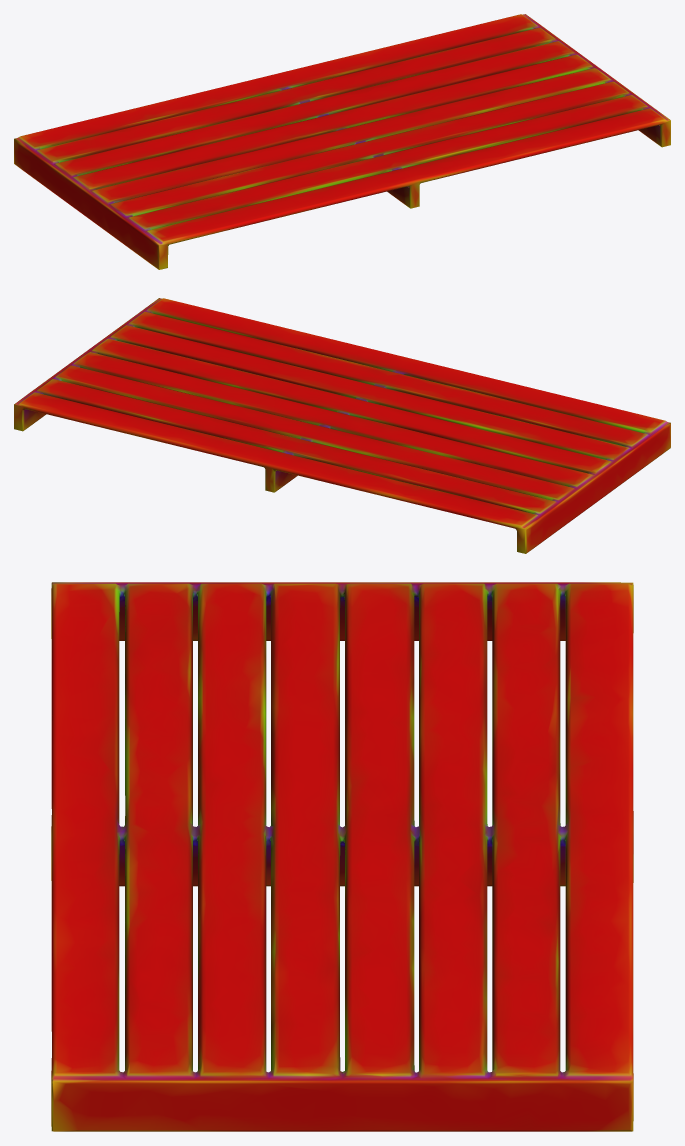
The model's file is Walkway.fbx.
The picture shows the model from 3 angles, top to bottom: view 1: azimuth 30°, elevation 25°; view 2: azimuth 150°, elevation 25°; view 3: azimuth 270°, elevation 25°; orthographic projection. The views are drawn at different scales.
Visible parts, largest first — view 1: transform1; view 2: transform1; view 3: transform1.
Part boxes in pixels (x1,y1,x2,y2): transform1: (14,14,670,269); transform1: (14,298,670,553); transform1: (51,582,633,1131).
Bounding box in the file's own units: 510 × 251 × 25.9.
